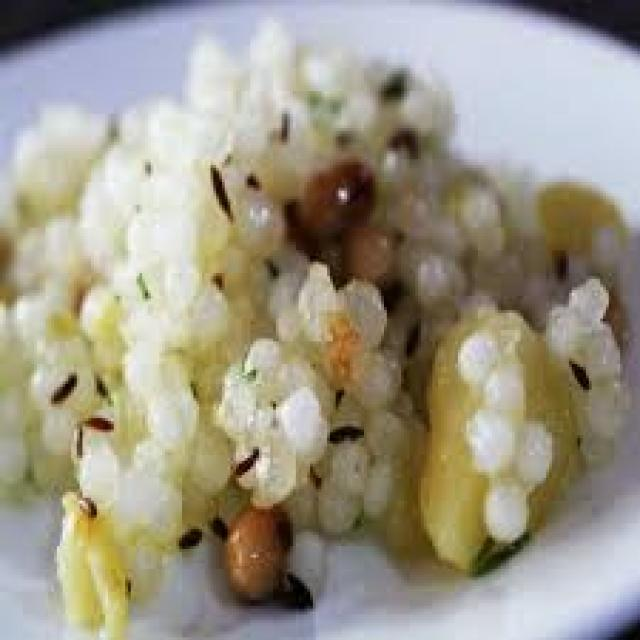UPMA: (0, 26, 631, 569)
